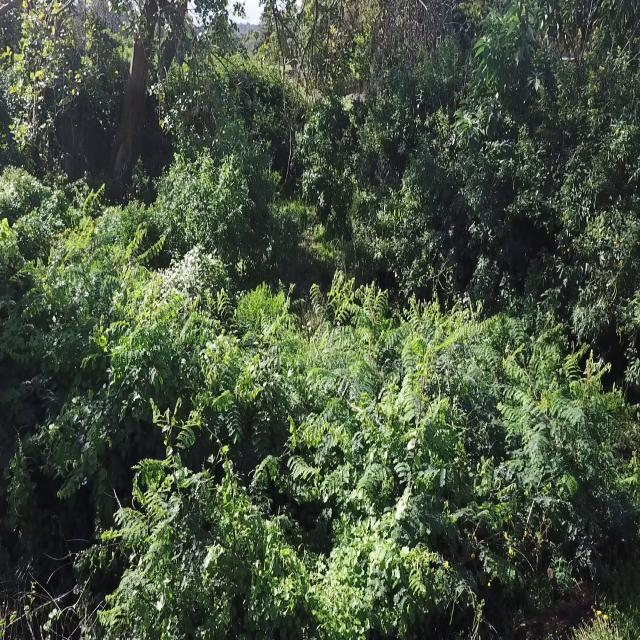Mysore-Thorn-Weed: (119, 397, 301, 640), (497, 292, 632, 521), (15, 185, 171, 378), (156, 272, 298, 454), (393, 298, 469, 541), (311, 270, 388, 498), (326, 519, 446, 629)
